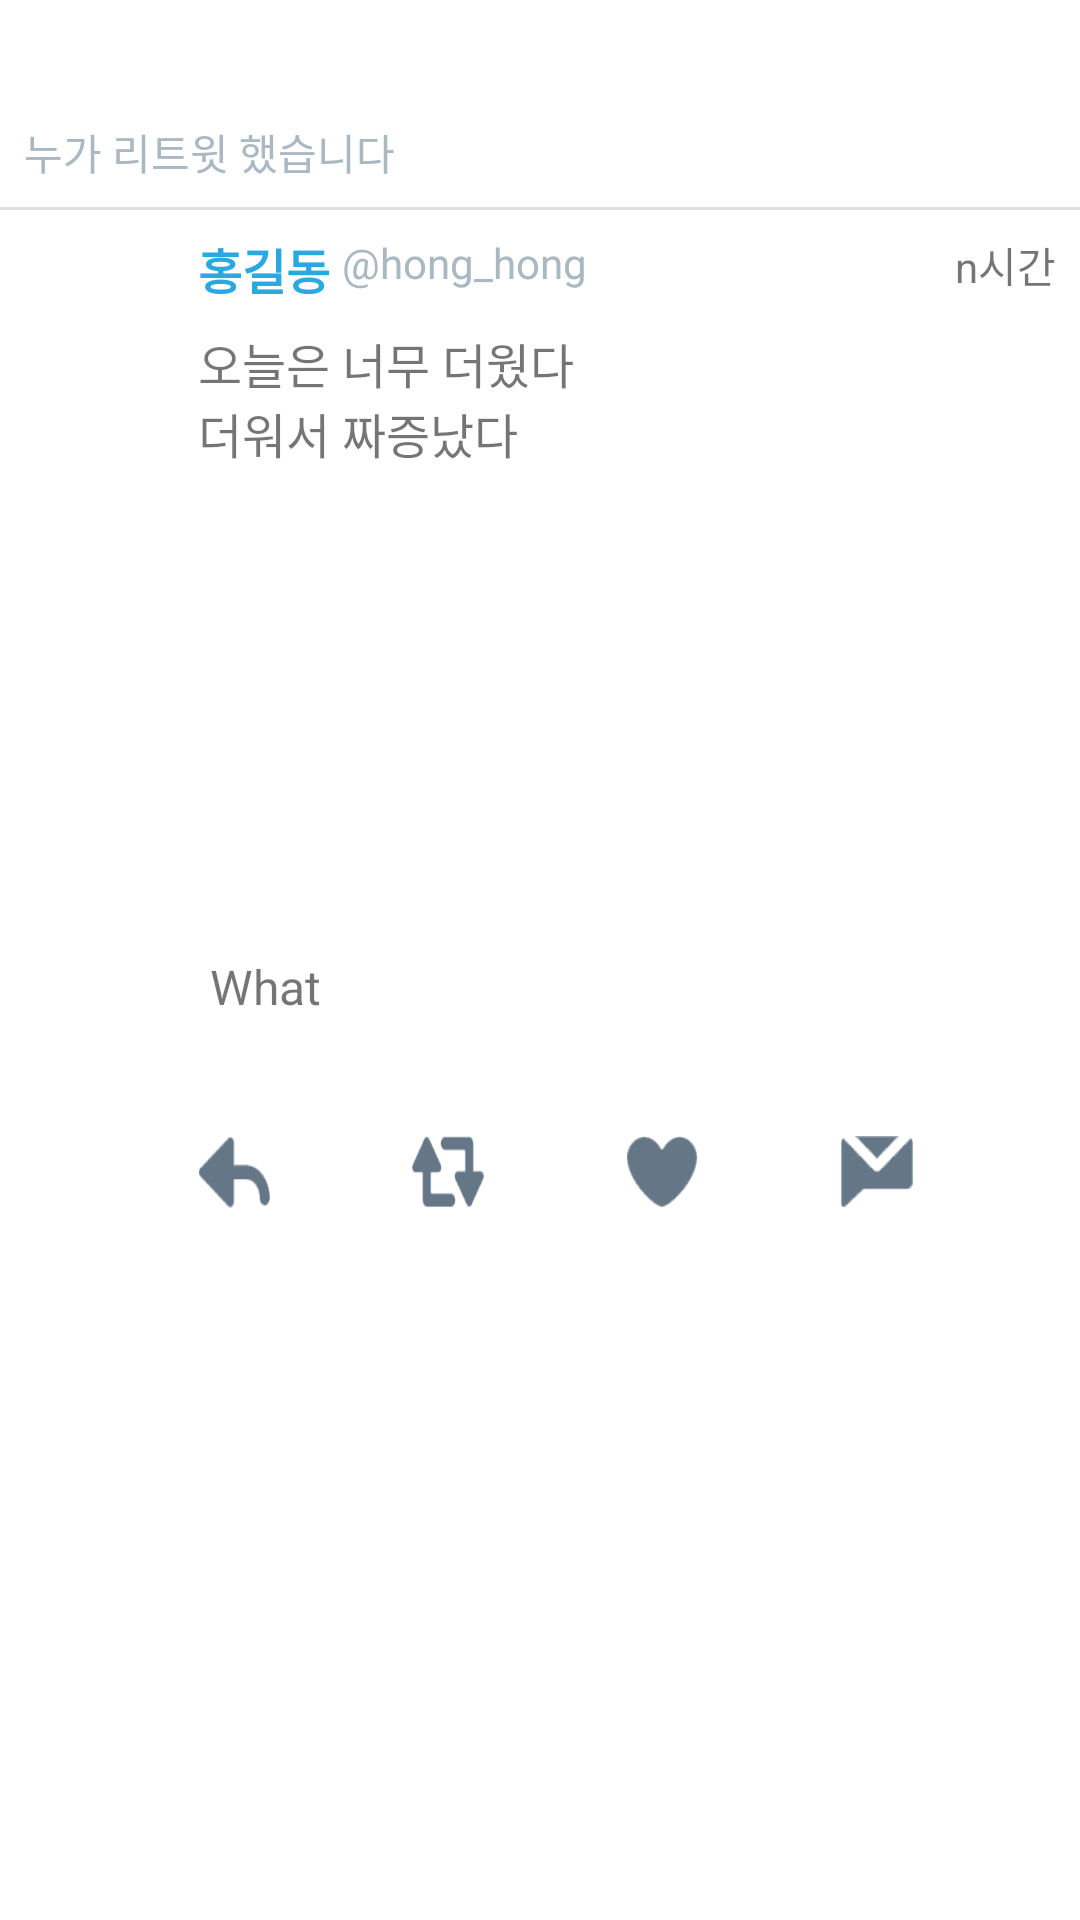

Named icons in this screenshot (1080×1920) and their centers, point (x, y):
twitter arti favorite: point (662, 1171)
twitter arti message: point (877, 1171)
twitter arti reply: point (234, 1172)
twitter arti retweet: point (448, 1171)
